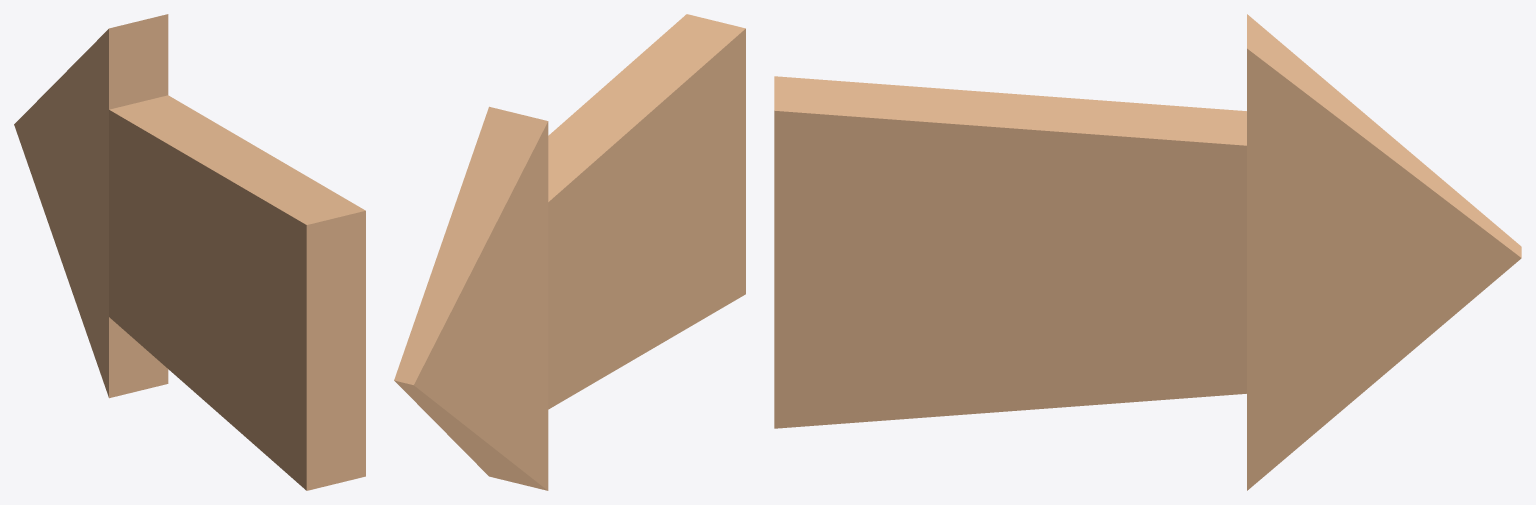
Rendered from arrow.fbx.
The picture shows the model from 3 angles, left to right: view 1: azimuth 30°, elevation 25°; view 2: azimuth 150°, elevation 25°; view 3: azimuth 270°, elevation 25°; orthographic projection. The views are drawn at different scales.
Visible parts, largest first — view 1: arrow; view 2: arrow; view 3: arrow.
Boxes of the visible parts, x1,y1,x2,y2 form: arrow: [14, 14, 365, 490]; arrow: [394, 14, 745, 490]; arrow: [774, 14, 1521, 490].
Bounding box in the file's own units: 4.98 × 29.76 × 45.57.
